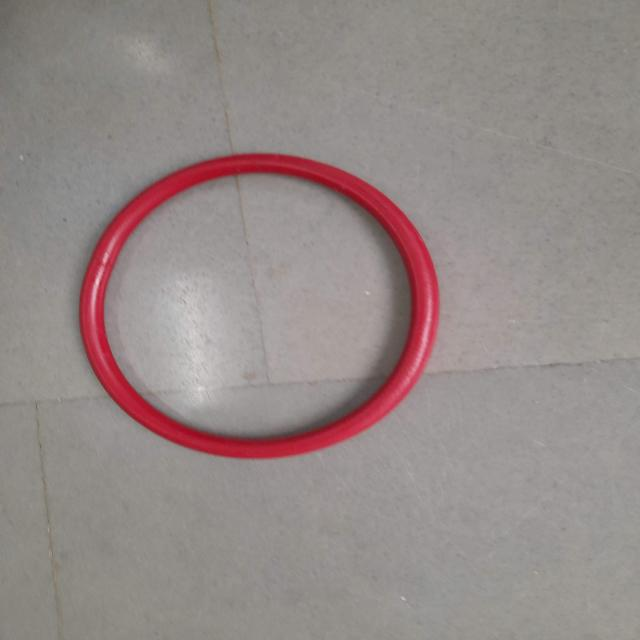daire: (80, 148, 440, 461)
